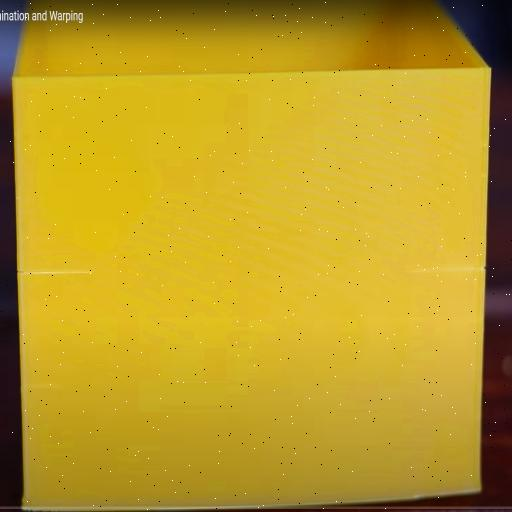cracks: (12, 257, 114, 289), (396, 253, 498, 283)
